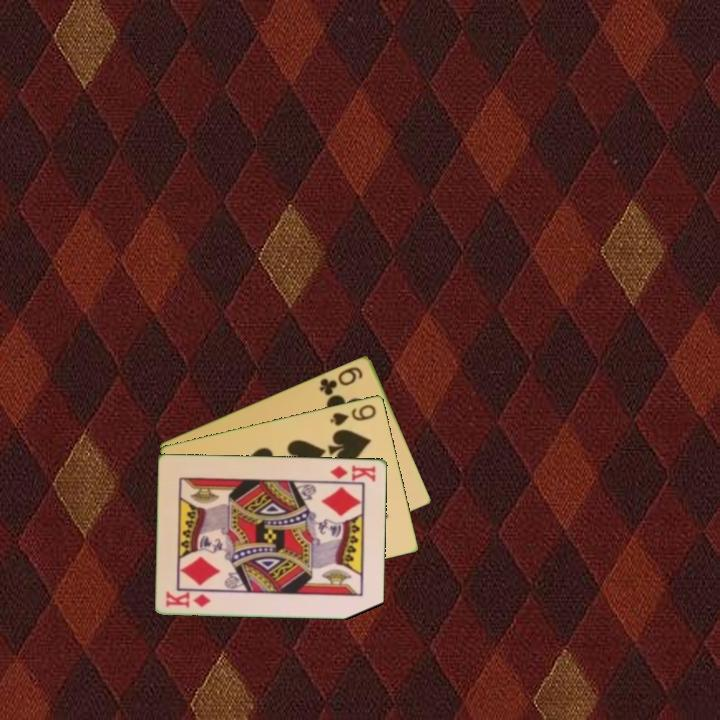6c: (316, 363, 366, 398)
9s: (327, 400, 379, 428)
Kd: (327, 461, 379, 484), (162, 588, 214, 610)
